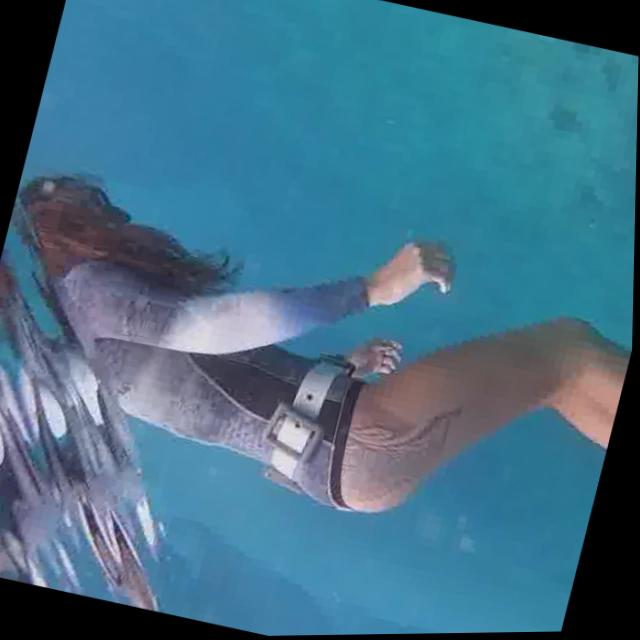human: (0, 135, 638, 588)
